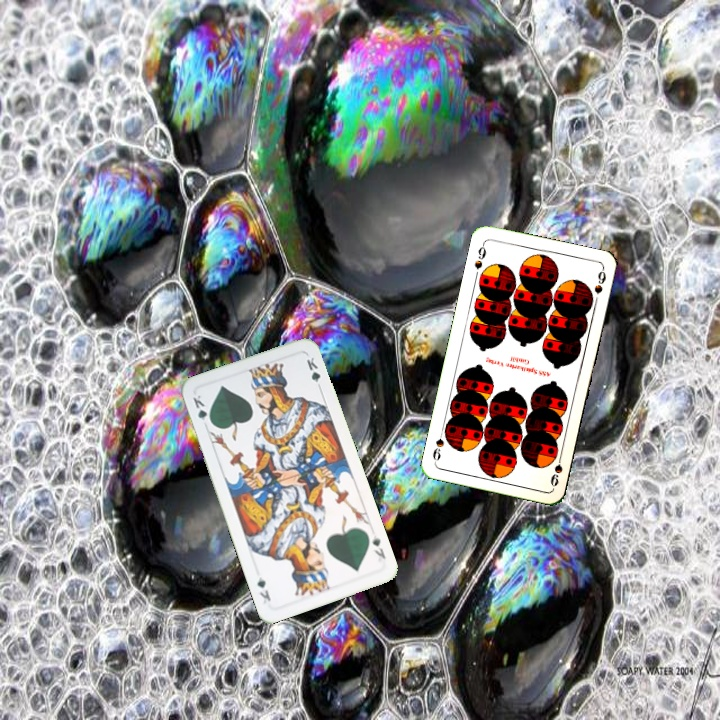GK: (189, 391, 215, 428), (368, 531, 388, 566)
S9: (546, 449, 565, 489), (470, 239, 489, 272)
